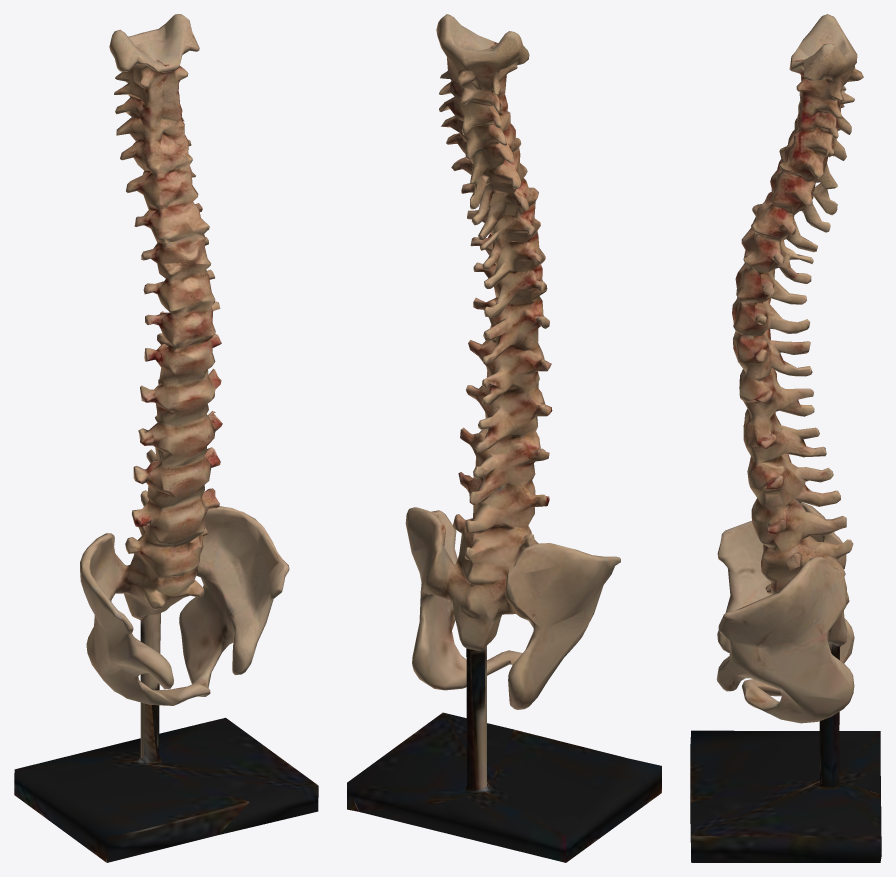
Rendered from spine2.glb.
The picture shows the model from 3 angles, left to right: view 1: azimuth 30°, elevation 25°; view 2: azimuth 150°, elevation 25°; view 3: azimuth 270°, elevation 25°; orthographic projection. The views are drawn at different scales.
Visible parts, largest first — view 1: Mesh_0; view 2: Mesh_0; view 3: Mesh_0.
Boxes of the visible parts, x1,y1,x2,y2 form: Mesh_0: (14,14,318,862); Mesh_0: (347,14,661,862); Mesh_0: (690,14,881,862).
Size of the model in its own units: 0.5486 by 1.9 by 0.4202.
Materials: 1 (1 with a texture image).
